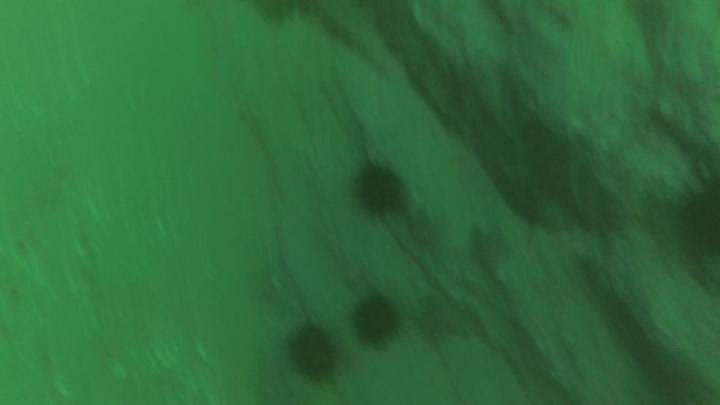echinus: (667, 168, 720, 266), (347, 154, 412, 222), (281, 317, 344, 386), (348, 289, 404, 350)
starfish: (411, 291, 474, 350), (466, 220, 516, 280)
